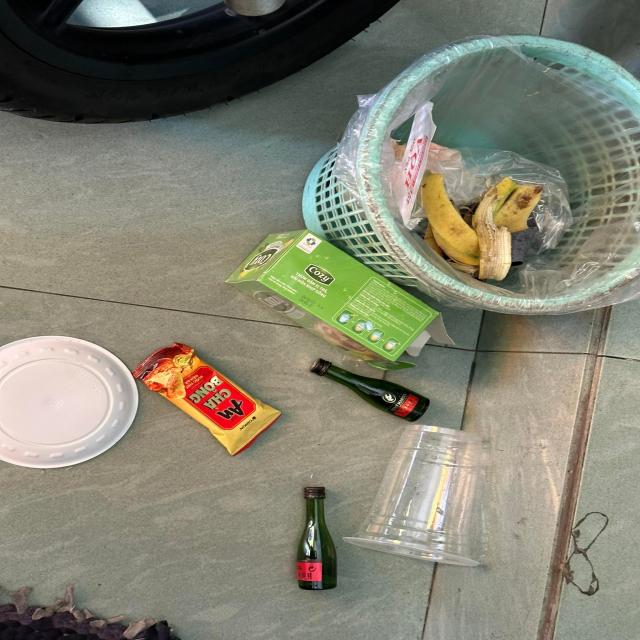bottle: (311, 358, 430, 422), (299, 488, 338, 590)
cardboard box: (225, 232, 456, 371)
packet: (132, 342, 282, 456)
plastic glass: (344, 424, 488, 569)
plastic holder: (0, 335, 138, 470)
